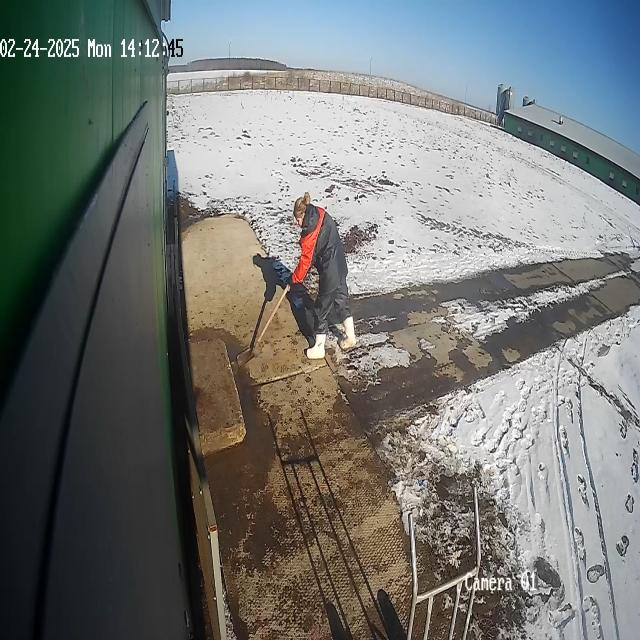Red uniform: (287, 202, 354, 345)
